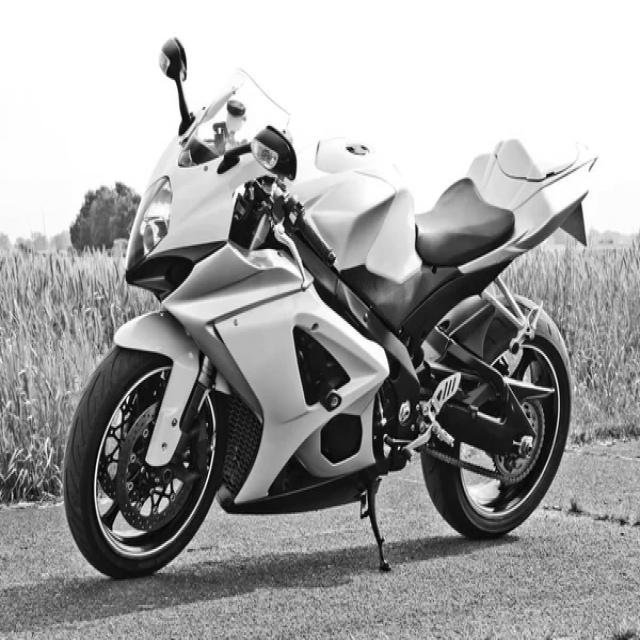Motorcycle: (63, 40, 596, 578)
